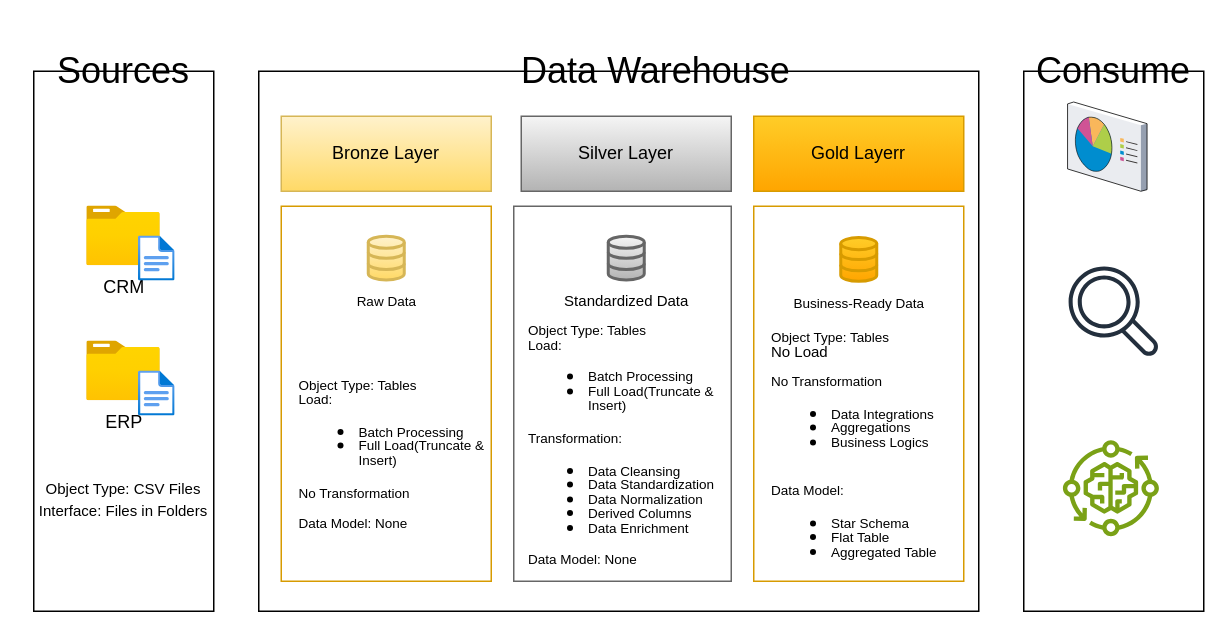
Some shapes in this 1230 by 638 pixel diagram are drawn without their labels. Each missing label, with the centre of its shape:
"Ad-Hoc SQL Queries" belongs at [1113,310].
"BI & Reporting" belongs at [1106,145].
"Machine Learning" belongs at [1110,488].
